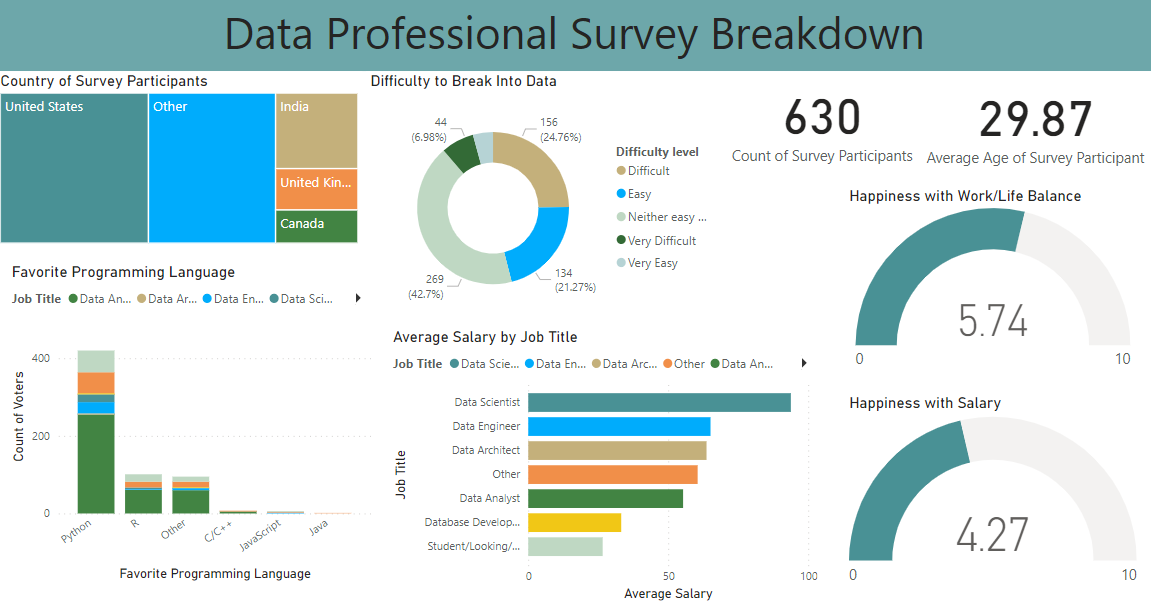

This screenshot's page, from the dashboard's own definition file:
{"tool":"powerbi","page":{"name":"Page 1","canvas":[1280,720],"ordinal":0},"visuals":[{"type":"textbox","box":[0,52.2,1270.4,81],"z":0},{"type":"card","fields":{"Values":["CountNonNull(Data Professional Survey.Unique ID)"]},"box":[802.1,133.2,211.5,108.5],"z":1000},{"type":"card","fields":{"Values":["Avg(Data Professional Survey.Q10 - Current Age)"]},"box":[1013.6,133.2,256.8,111.2],"z":2000},{"type":"barChart","title":"Average Salary by Job Title","fields":{"Category":["Data Professional Survey.Q1 - Which Title Best Fits your Current Role?.1"],"Y":["Avg(Data Professional Survey.Average Salary)"],"Series":["Data Professional Survey.Q1 - Which Title Best Fits your Current Role?.1"]},"box":[431.2,414.8,476.6,304.9],"z":2001},{"type":"columnChart","title":"Favorite Programming Language","fields":{"Category":["Data Professional Survey.Q5 - Favorite Programming Language.1"],"Y":["CountNonNull(Data Professional Survey.Unique ID)"],"Series":["Data Professional Survey.Q1 - Which Title Best Fits your Current Role?.1"]},"box":[12.4,343.3,405.2,354.3],"z":2002},{"type":"treemap","title":"Country of Survey Participants","fields":{"Group":["Data Professional Survey.Q11 - Which Country do you live in?.1"],"Values":["CountNonNull(Data Professional Survey.Q11 - Which Country do you live in?.1)"]},"box":[0,133.2,402.4,193.6],"z":2003},{"type":"gauge","title":"Happiness with Work/Life Balance","fields":{"Y":["Avg(Data Professional Survey.Q6 - How Happy are you in your Current Position with the following? (Work/Life Balance))"],"MinValue":["Min(Data Professional Survey.Q6 - How Happy are you in your Current Position with the following? (Work/Life Balance))1"],"MaxValue":["Max(Data Professional Survey.Q6 - How Happy are you in your Current Position with the following? (Work/Life Balance))2"]},"box":[932.5,259.6,325.5,211.5],"z":2004},{"type":"gauge","title":"Happiness with Salary","fields":{"Y":["Avg(Data Professional Survey.Q6 - How Happy are you in your Current Position with the following? (Salary))"],"MinValue":["Min(Data Professional Survey.Q6 - How Happy are you in your Current Position with the following? (Salary))1"],"MaxValue":["Max(Data Professional Survey.Q6 - How Happy are you in your Current Position with the following? (Salary))2"]},"box":[932.5,487.6,325.5,221.1],"z":2005},{"type":"donutChart","title":"Difficulty to Break Into Data","fields":{"Y":["CountNonNull(Data Professional Survey.Q7 - How difficult was it for you to break into Data?)"],"Series":["Data Professional Survey.Q7 - How difficult was it for you to break into Data?"]},"box":[406.5,133.2,395.5,281.5],"z":2006}]}

Visuals, with their boxes on the page's 1280x720 design canvas (x1, y1, x2, y2). These are canvas units, not pixel positions in the 1151x603 screenshot, which may show the page scaled, cropped or inside an application window:
textbox: locate(0, 52, 1270, 133)
card - CountNonNull(Data Professional Survey.Unique ID): locate(802, 133, 1014, 242)
card - Avg(Data Professional Survey.Q10 - Current Age): locate(1014, 133, 1270, 244)
"Average Salary by Job Title" barChart: locate(431, 415, 908, 720)
"Favorite Programming Language" columnChart: locate(12, 343, 418, 698)
"Country of Survey Participants" treemap: locate(0, 133, 402, 327)
"Happiness with Work/Life Balance" gauge: locate(932, 260, 1258, 471)
"Happiness with Salary" gauge: locate(932, 488, 1258, 709)
"Difficulty to Break Into Data" donutChart: locate(406, 133, 802, 415)
